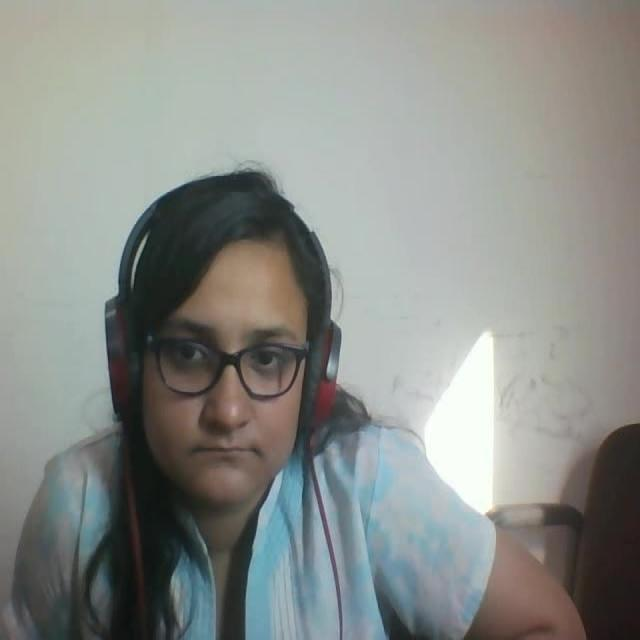Engaged: (86, 171, 362, 521)
